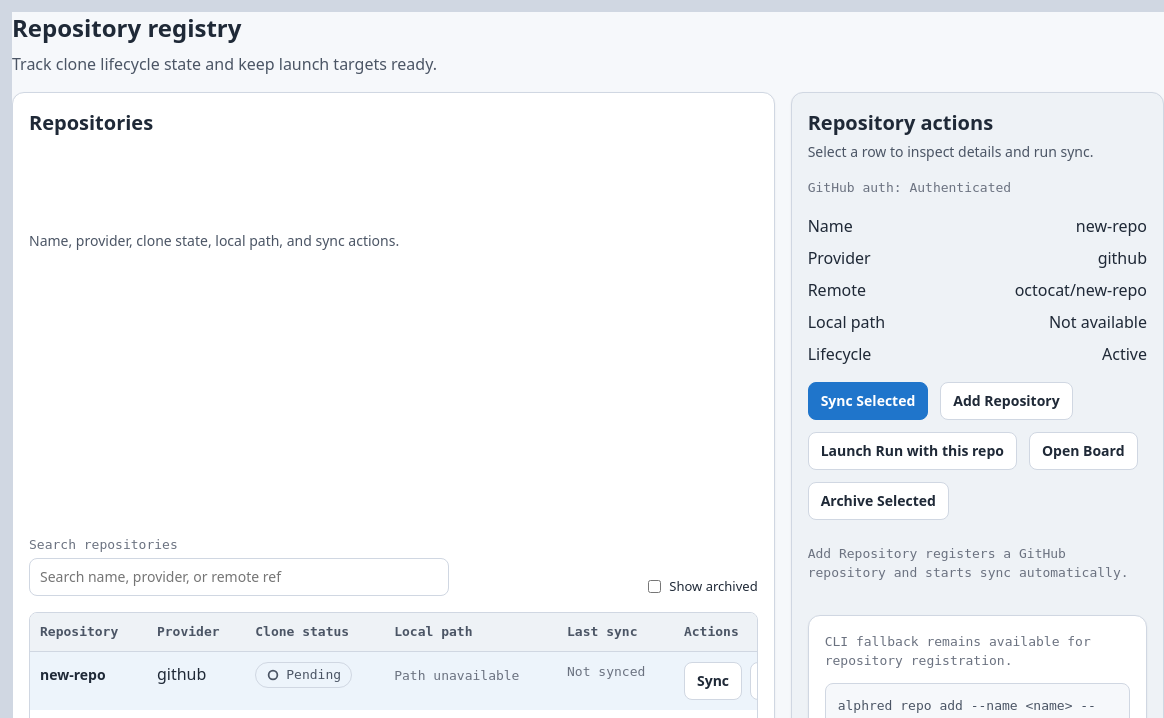
Test: RepositoriesPage › syncs a pending repository and updates lifecycle to cloned
What coordinates should you click on to do the following:
click the button with aria-label "Sync new-repo"
I would click on:
 (713, 681)
Its box is [684,662,742,700].
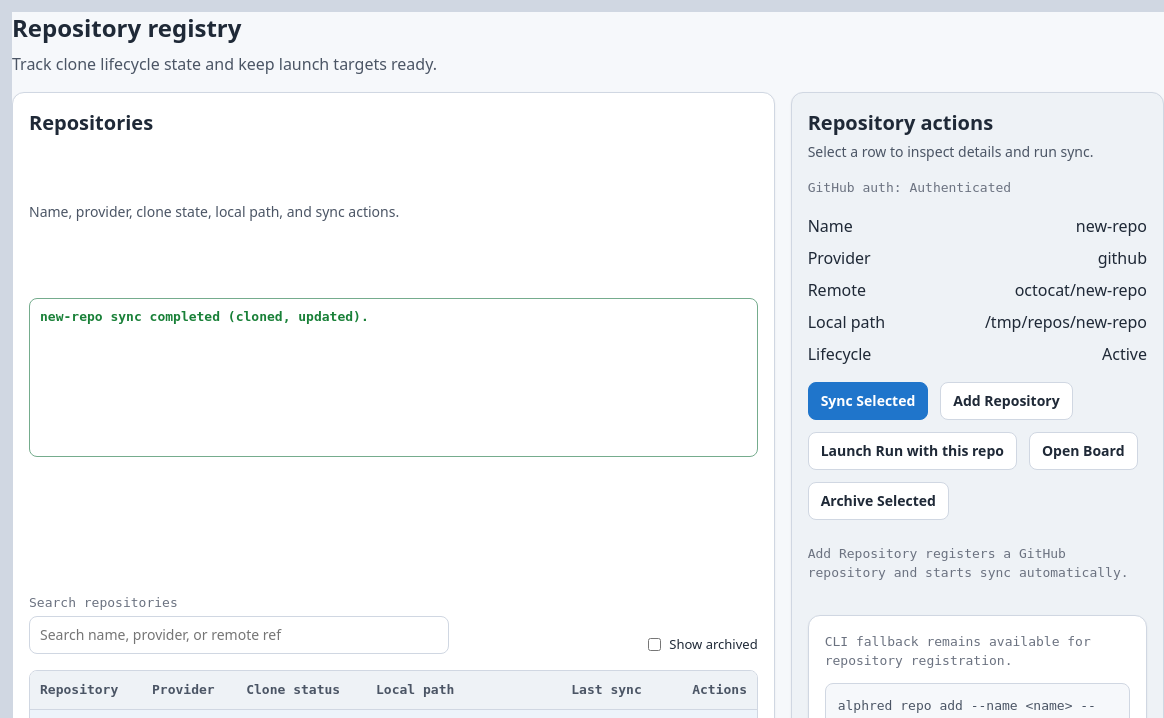
Now the text "new-repo sync completed (cloned, updated)." is shown, box [29,298,758,457]
